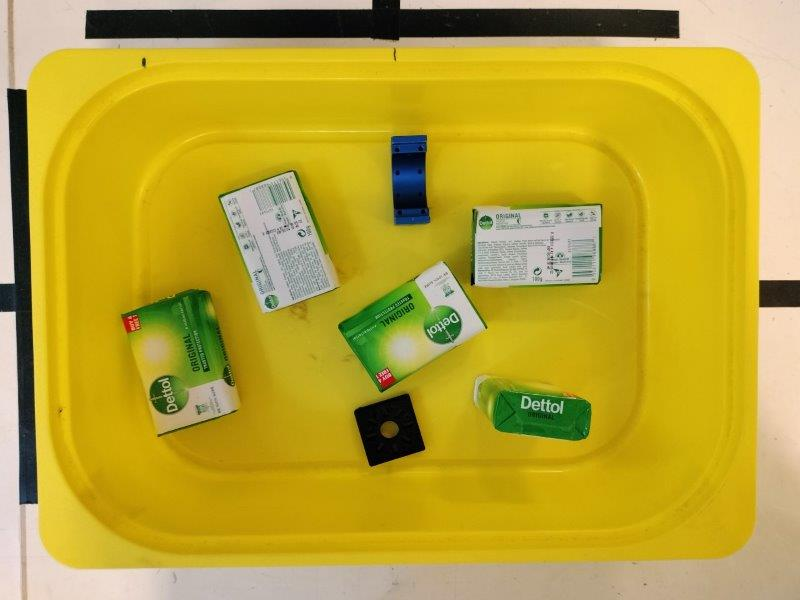Dettol: (340, 262, 487, 392), (122, 288, 243, 436), (219, 170, 340, 313), (470, 204, 603, 287), (474, 372, 594, 441)
